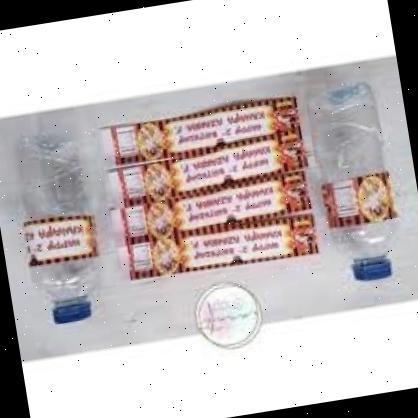bottle: (0, 106, 139, 340), (296, 66, 418, 296)
cap: (350, 254, 400, 287), (46, 296, 94, 326)
label: (320, 172, 400, 230), (22, 214, 100, 269)
